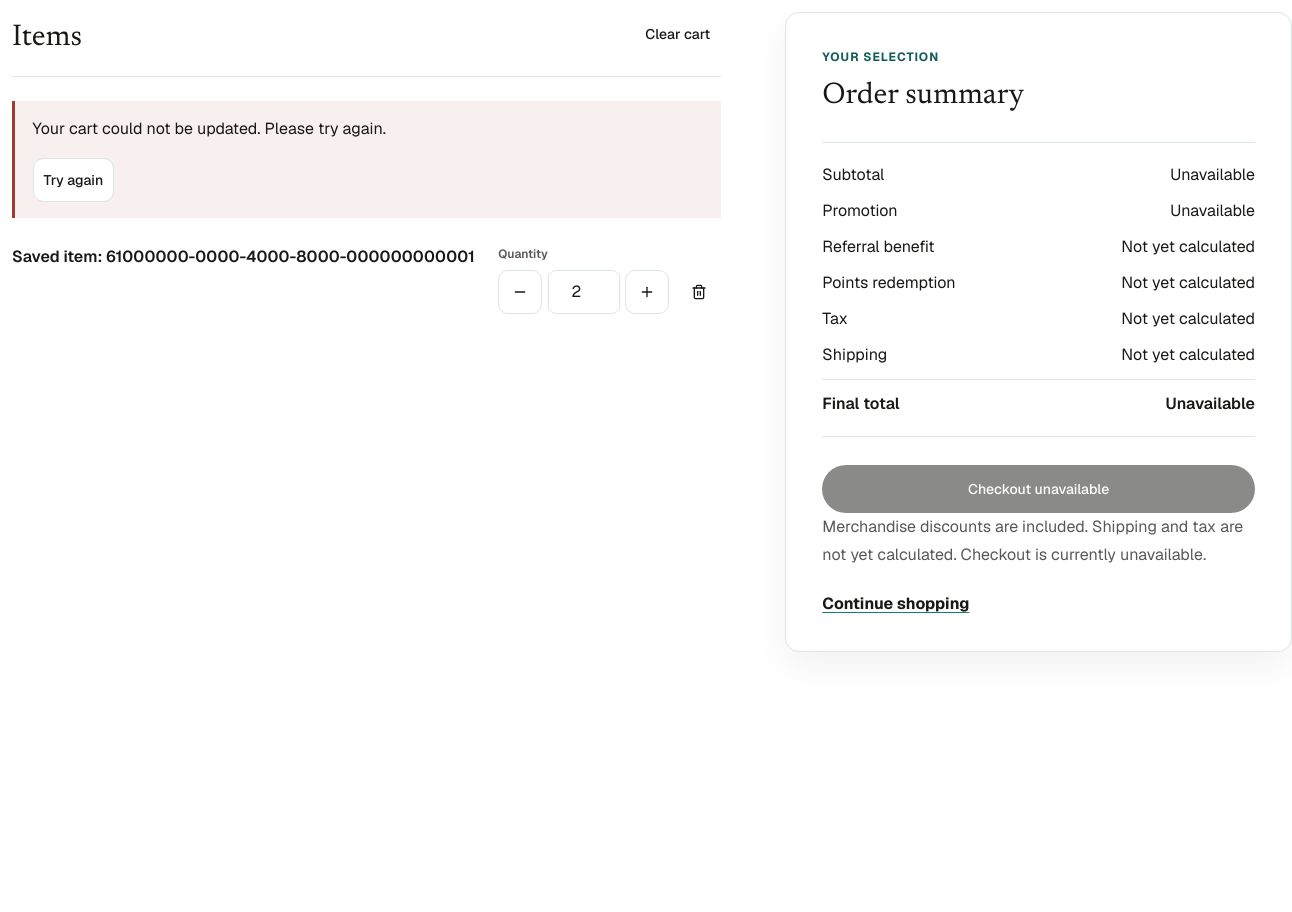
Test case: CartView › retries the unchanged variant cart after a preview failure
expect the message shows "Your cart could not be updated. Please try again.": met, box [33,118,386,139]
Click the button "Try again" at coordinates (73, 180), box [33,158,114,202]
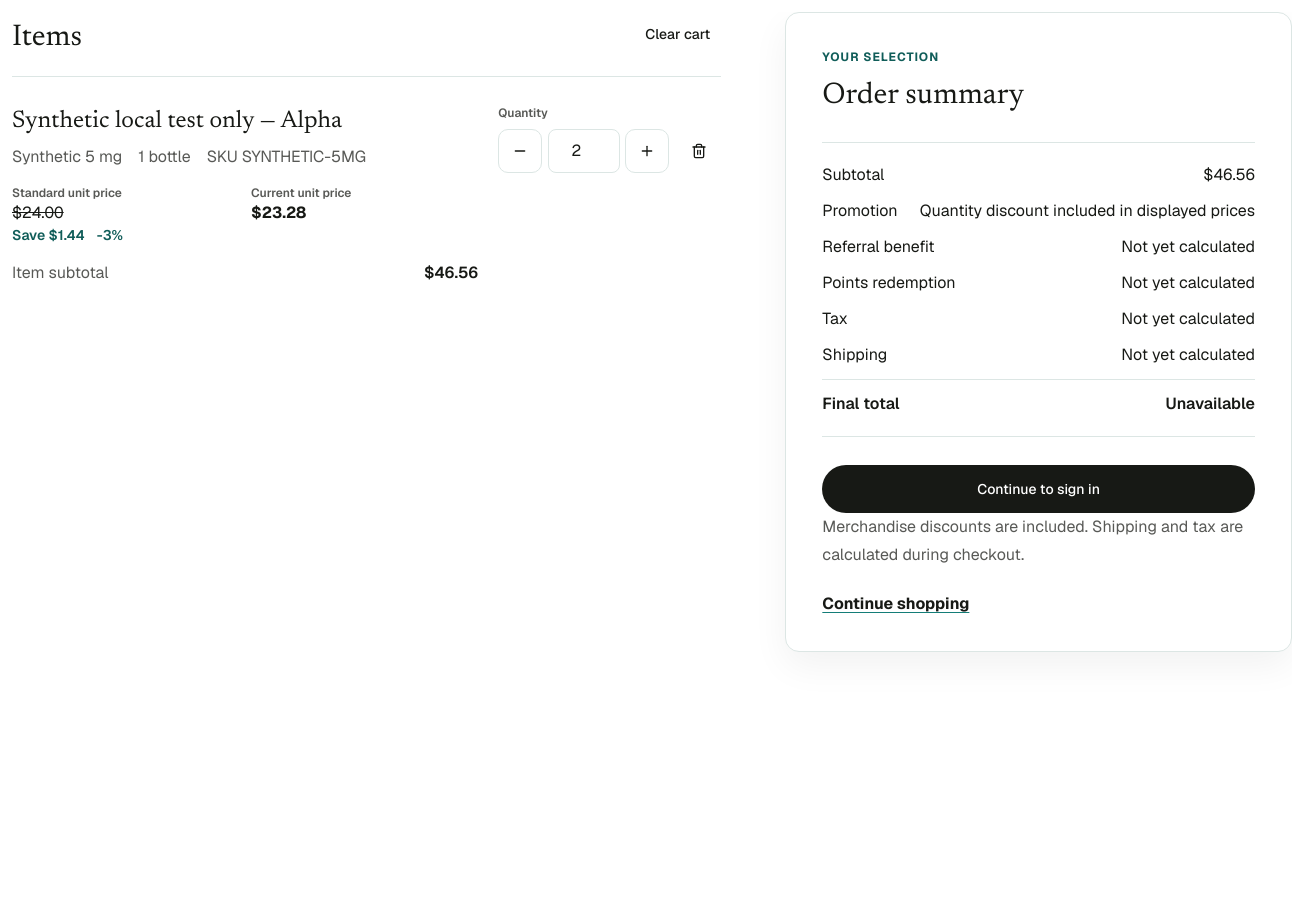
expect the text "$46.56" is shown 2 times: met, box [424,261,478,285]; [1203,163,1255,187]
